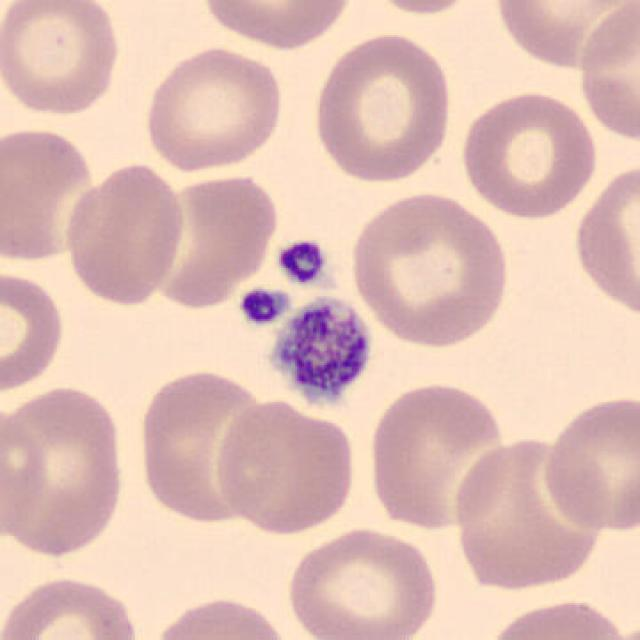Platelets: (267, 292, 375, 410), (274, 236, 334, 288), (234, 284, 290, 328)
RBC: (345, 187, 514, 351), (446, 432, 614, 594), (134, 362, 278, 527), (307, 28, 457, 185), (2, 380, 132, 560), (364, 378, 512, 532), (212, 395, 359, 539), (142, 170, 283, 310), (58, 157, 188, 308), (457, 86, 601, 220), (140, 42, 286, 174), (281, 523, 443, 640), (538, 389, 640, 536), (0, 0, 124, 120), (0, 122, 100, 266), (569, 155, 638, 325), (488, 0, 638, 72), (0, 573, 144, 640), (572, 0, 638, 145), (0, 264, 69, 396), (198, 0, 358, 51), (0, 398, 53, 550), (146, 592, 297, 640), (478, 594, 633, 640), (359, 0, 485, 18)
